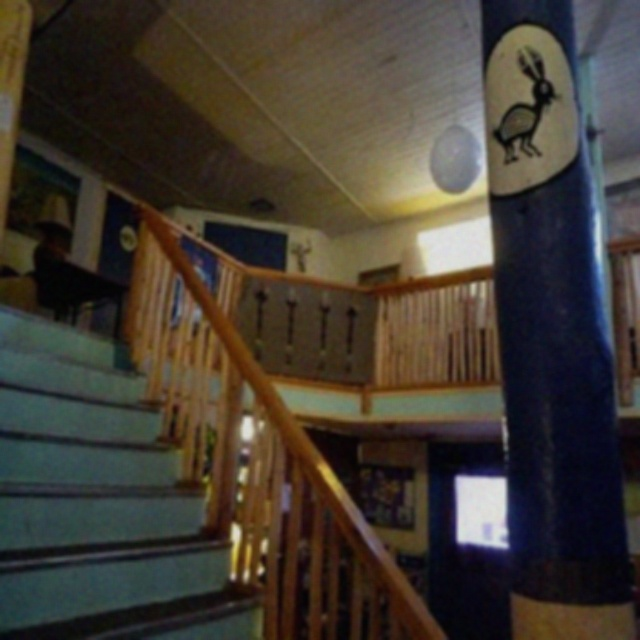stair: (0, 303, 263, 639)
